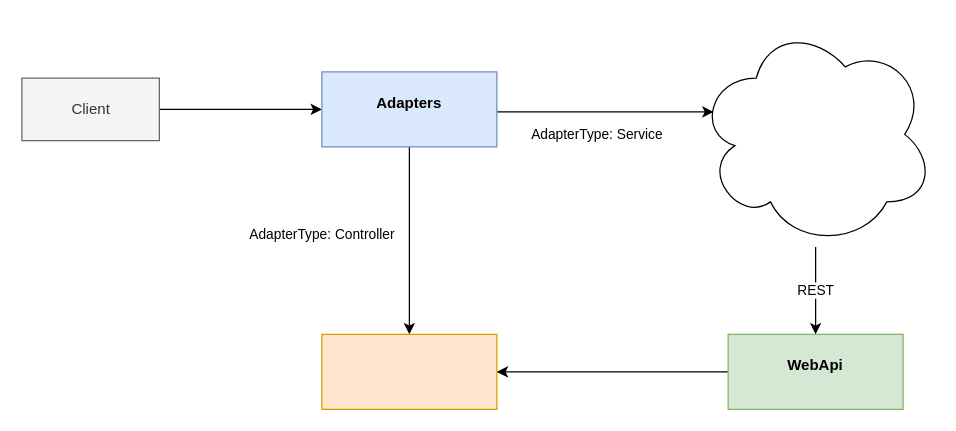
This 956x431 diagram has some shape labels left out. The centre of each missing label's shape, as x and y in pixels:
"Internet" belongs at point 815,134.
"Logic" belongs at point 409,371.
